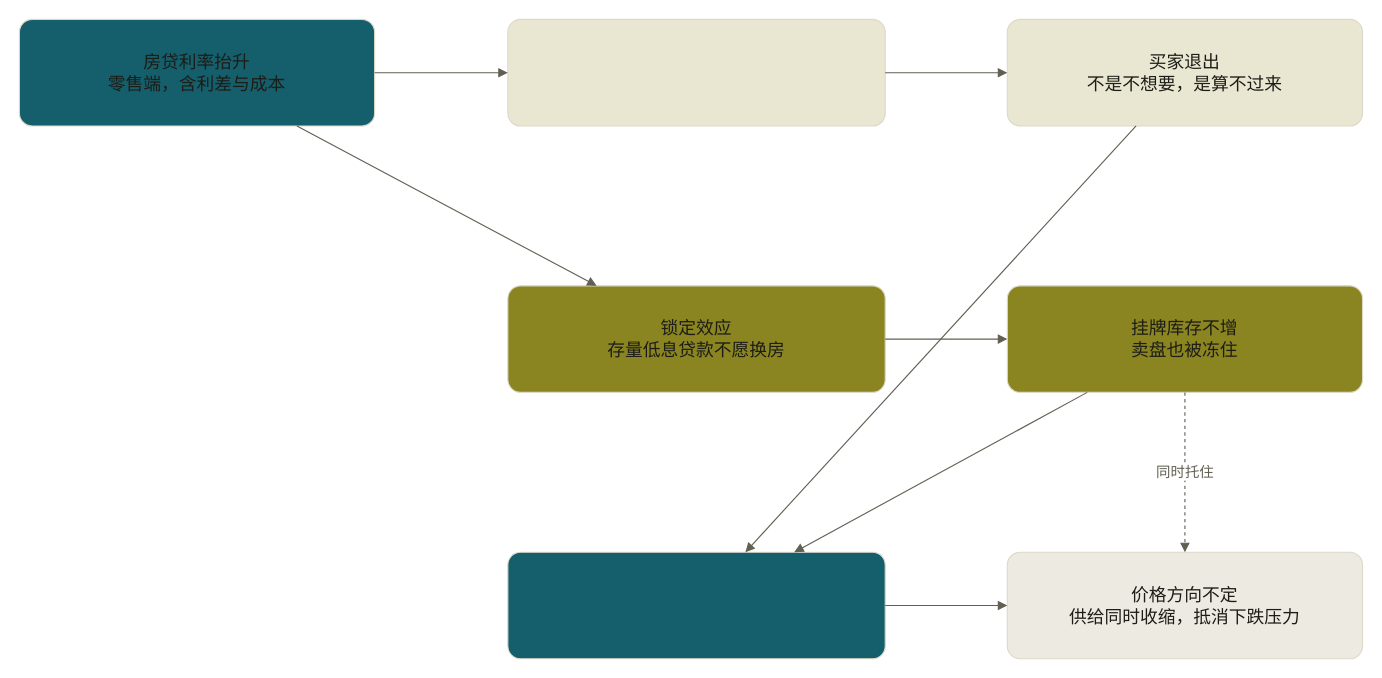
This 1382x678 diagram has some shape labels left out. The centre of each missing label's shape, as x and y in pixels:
"可负担性下降 同收入支撑的房价变低" goes at point 696,72.
"成交量先掉 这条是确定的" goes at point 696,605.
